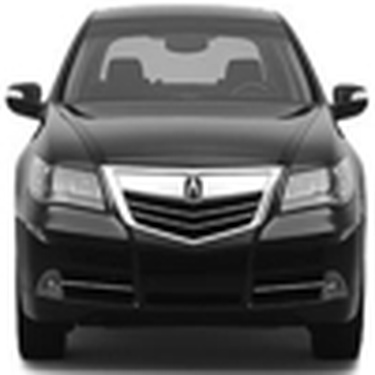car: (1, 4, 370, 369)
